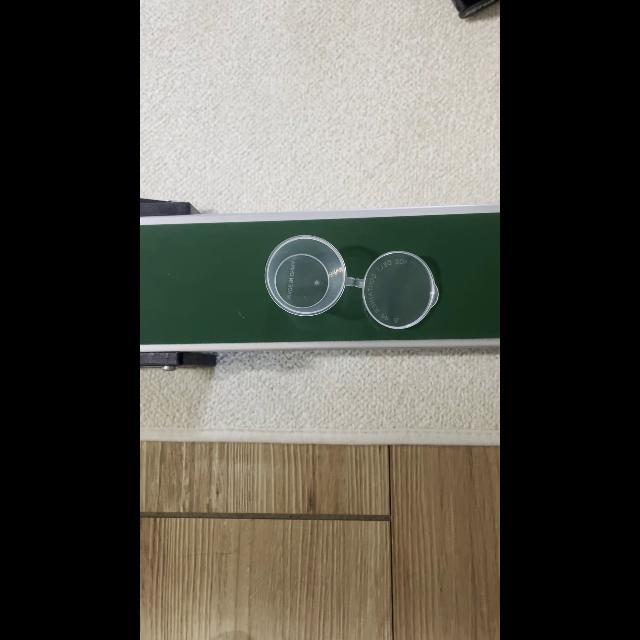clean: (364, 249, 436, 333), (267, 240, 345, 312)
